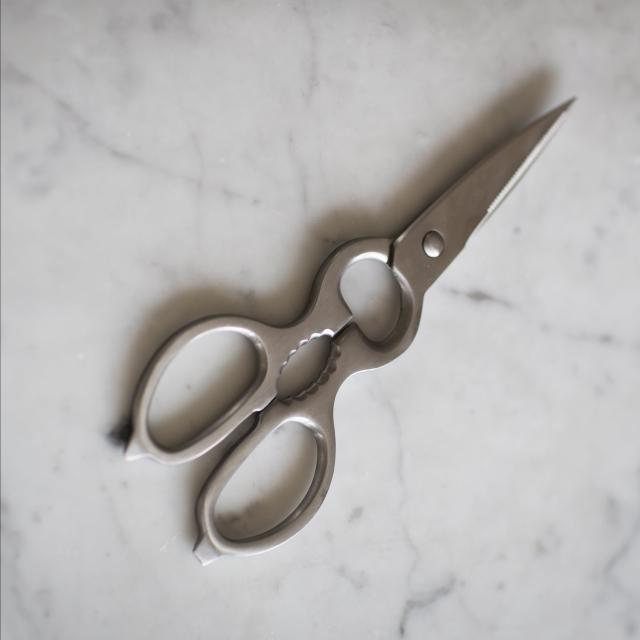Gunting: (99, 65, 600, 567)
